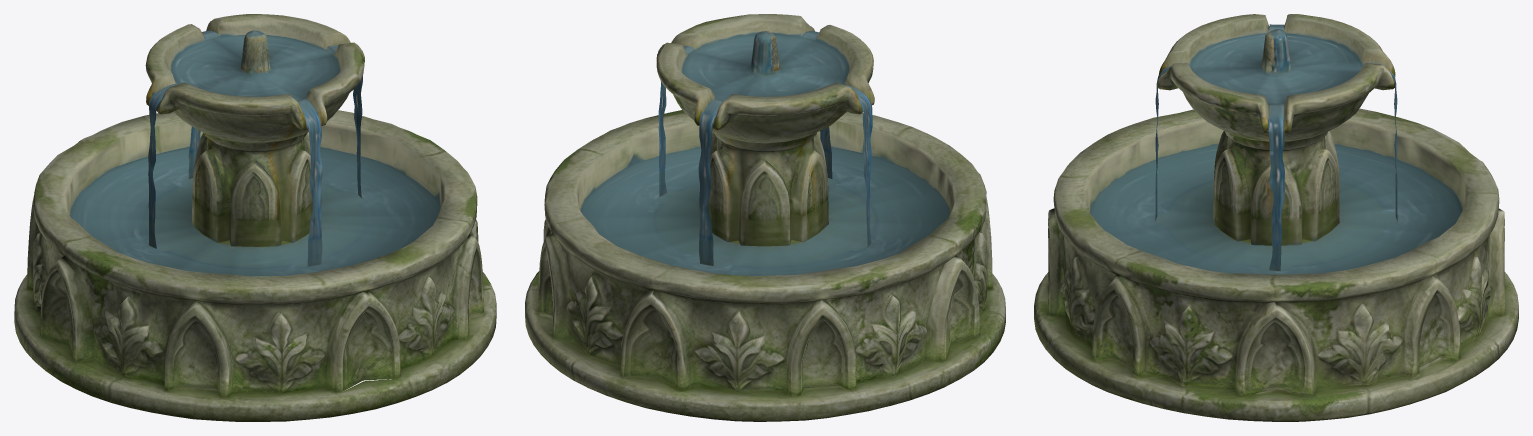
File: SM_Env_BaskervilleGardenFountain.fbx
3 views of the same model, side by side, from view 1: azimuth 30°, elevation 25°; view 2: azimuth 150°, elevation 25°; view 3: azimuth 270°, elevation 25° (orthographic).
Visible parts, largest first — view 1: SM_Env_BaskervilleGardenFountain; view 2: SM_Env_BaskervilleGardenFountain; view 3: SM_Env_BaskervilleGardenFountain.
Part boxes in pixels (x1,y1,x2,y2): SM_Env_BaskervilleGardenFountain: (14,14,496,421); SM_Env_BaskervilleGardenFountain: (525,14,1005,421); SM_Env_BaskervilleGardenFountain: (1034,14,1518,421).
Size of the model in its own units: 81.7 by 81.7 by 54.
1 material, 1 textured.
